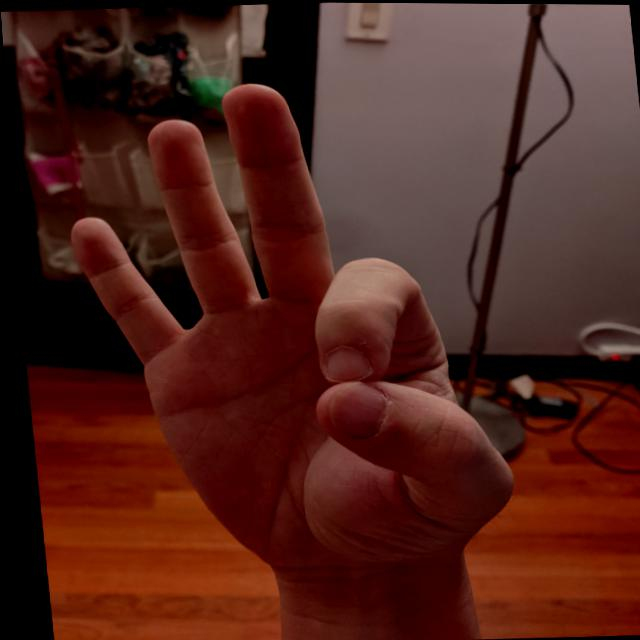F: (45, 71, 527, 591)
